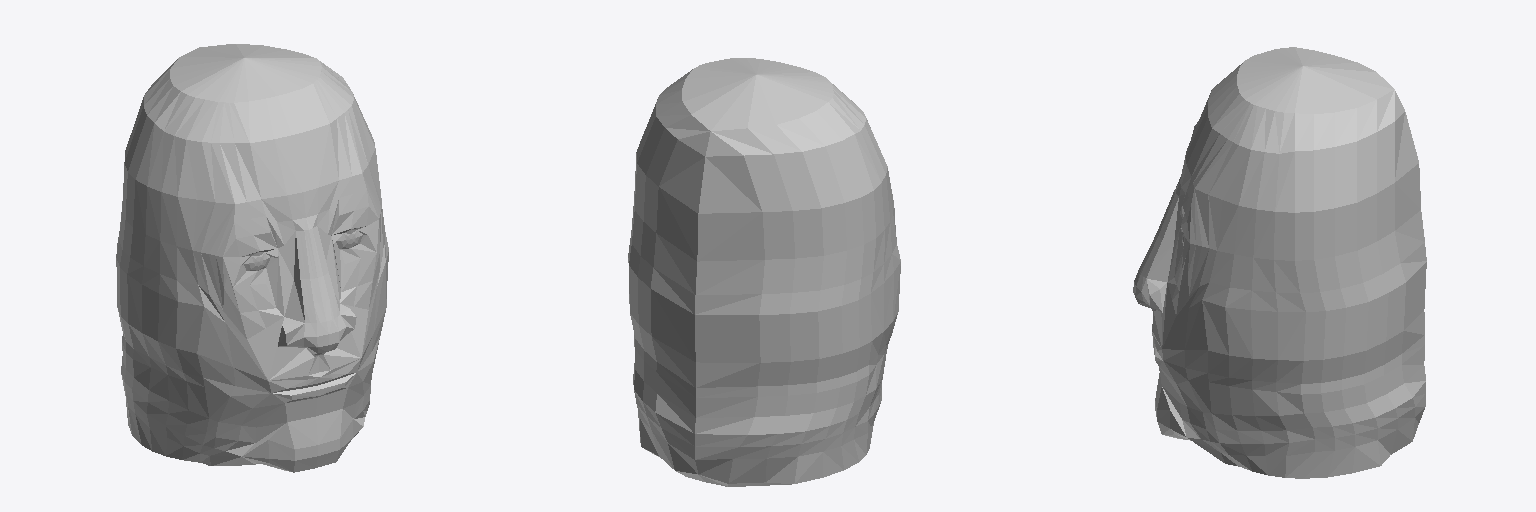
The model's file is Companion.obj.
3 renders of one model, left to right at view 1: azimuth 30°, elevation 25°; view 2: azimuth 150°, elevation 25°; view 3: azimuth 270°, elevation 25°, orthographic.
Parts seen in each view (by area): view 1: Cone; view 2: Cone; view 3: Cone.
Part boxes in pixels (x1,y1,x2,y2): Cone: (116, 44, 388, 472); Cone: (628, 58, 900, 486); Cone: (1133, 47, 1426, 478).
Size of the model in its own units: 1.14 by 1.78 by 1.25.